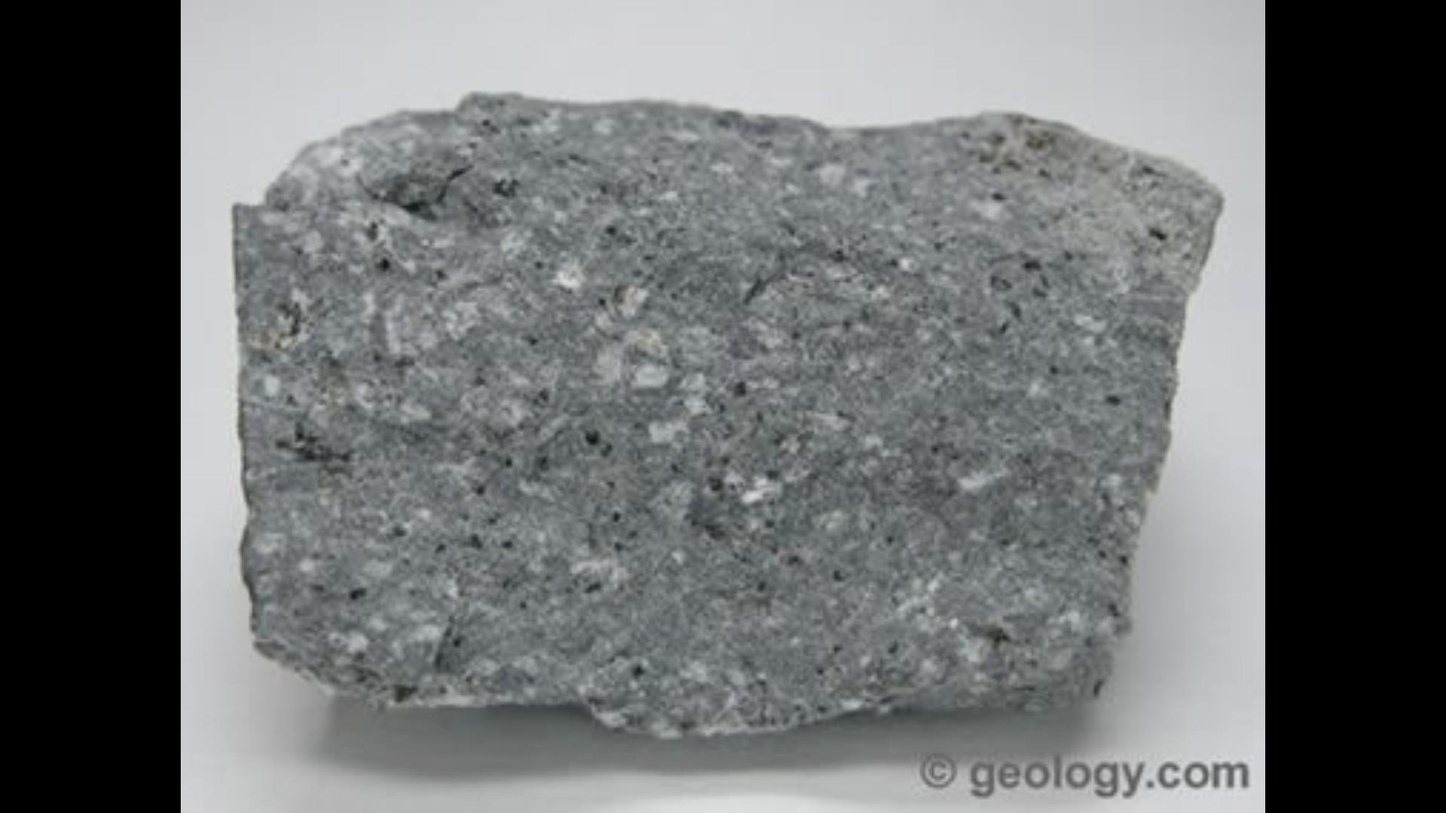rock: (238, 94, 1220, 733)
